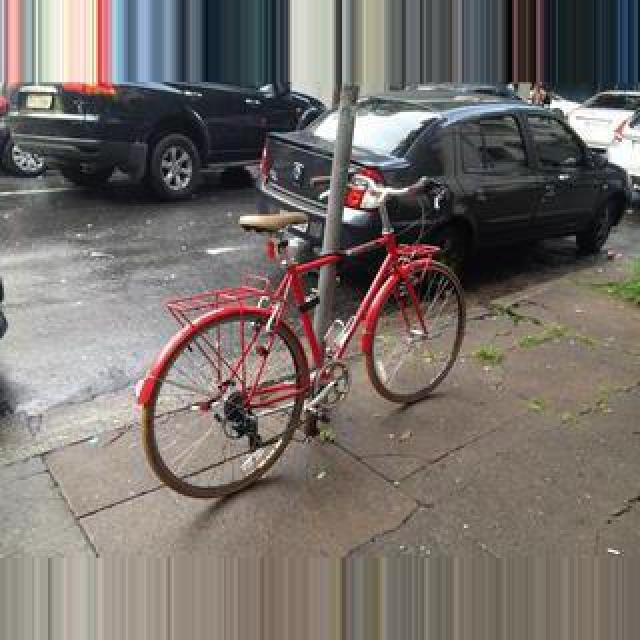Bus-Bike: (256, 90, 620, 282), (6, 80, 282, 200)
Person: (134, 188, 474, 504)
